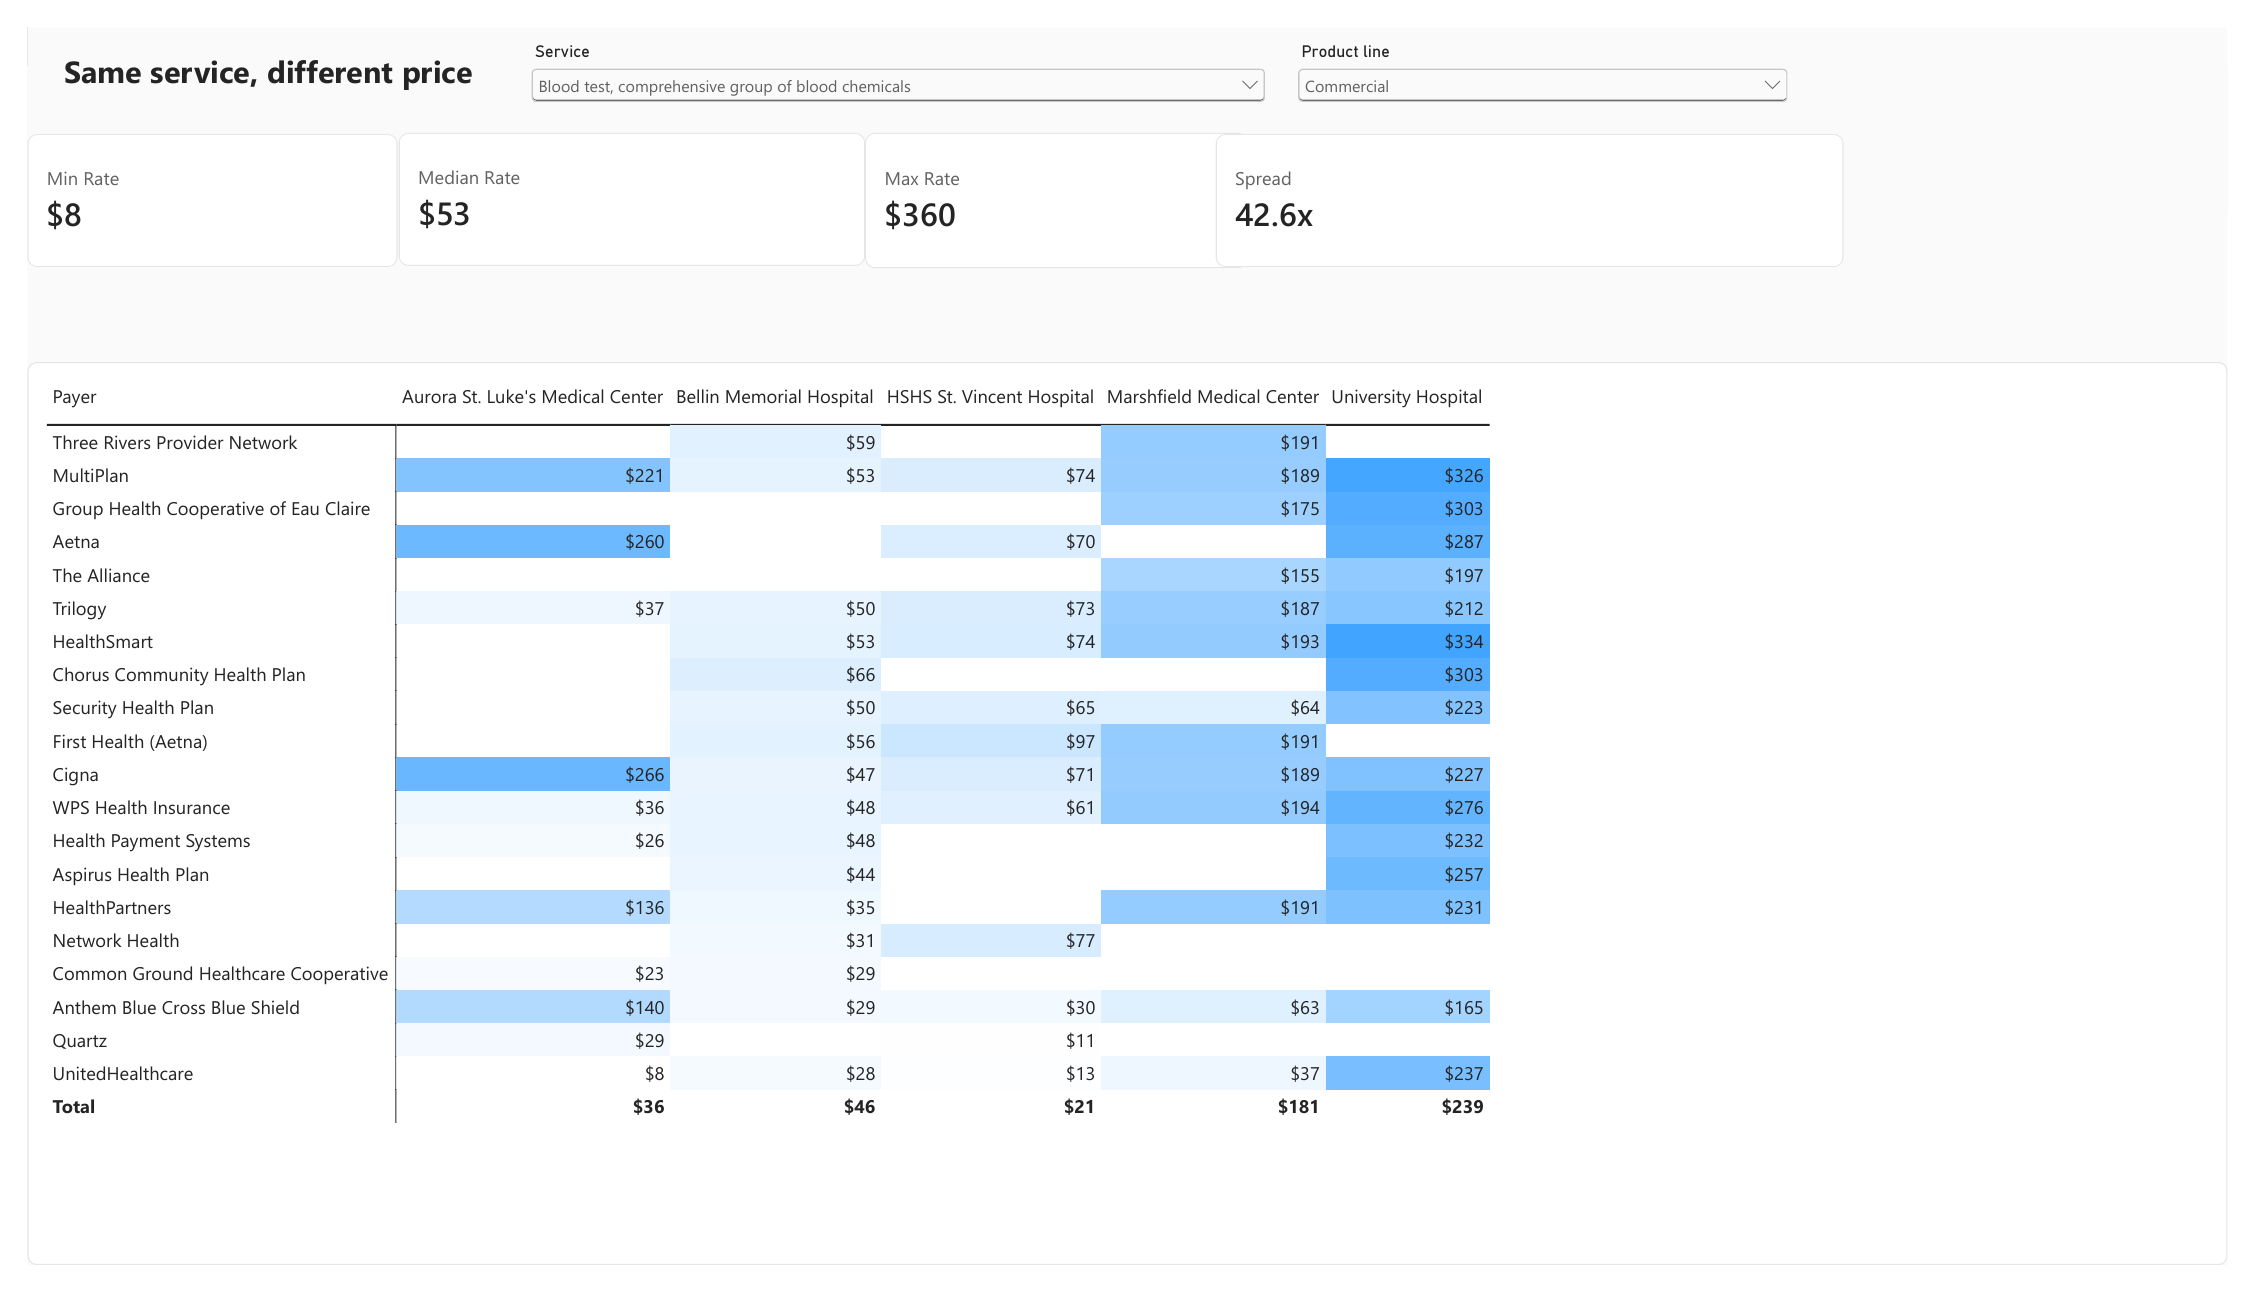

This screenshot's page, from the dashboard's own definition file:
{"tool":"powerbi","page":{"name":"Payer Spread","canvas":[1920,1080],"ordinal":0},"visuals":[{"type":"slicer","fields":{"Values":["service.service"]},"box":[434.8,13.1,650.7,84.6],"z":0},{"type":"slicer","fields":{"Values":["shoppable_rate.product_line"]},"box":[1104.4,13.1,436.2,72.9],"z":1000},{"type":"cardVisual","fields":{"Data":["Metrics.Min Rate Text"]},"box":[0,93.4,323.9,116.7],"z":2000},{"type":"cardVisual","fields":{"Data":["Metrics.Median Rate Text"]},"box":[323.9,91.9,407.1,116.7],"z":3000},{"type":"cardVisual","fields":{"Data":["Metrics.Max Rate Text"]},"box":[730.9,91.9,334.1,118.2],"z":4000},{"type":"cardVisual","fields":{"Data":["Metrics.Spread"]},"box":[1037.3,93.4,548.6,116.7],"z":5000},{"type":"pivotTable","fields":{"Columns":["hospital.hospital_name"],"Rows":["payer.payer_group"],"Values":["Metrics.Median Rate"]},"box":[0,291.8,1920,787.8],"z":6000},{"type":"textbox","box":[32.1,20.4,513.6,58.4],"z":7000}]}

Visuals, with their boxes in screenshot pixels (x1, y1, x2, y2), scaled from the page's 1920x1080 canvas onto the 2255x1293 screenshot:
slicer - service.service: box=[511, 16, 1275, 117]
slicer - shoppable_rate.product_line: box=[1297, 16, 1809, 103]
cardVisual - Metrics.Min Rate Text: box=[0, 112, 380, 252]
cardVisual - Metrics.Median Rate Text: box=[380, 110, 859, 250]
cardVisual - Metrics.Max Rate Text: box=[858, 110, 1251, 252]
cardVisual - Metrics.Spread: box=[1218, 112, 1863, 252]
pivotTable - hospital.hospital_name x payer.payer_group: box=[0, 349, 2254, 1292]
textbox: box=[38, 24, 641, 94]
